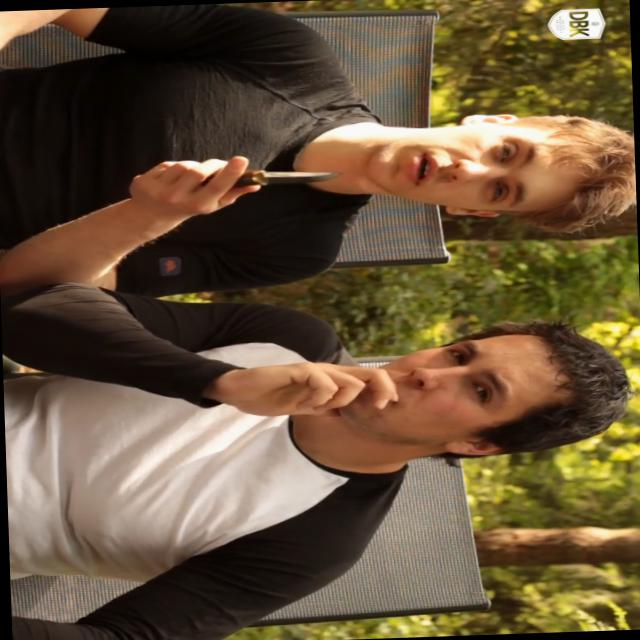knife: (174, 142, 356, 207)
